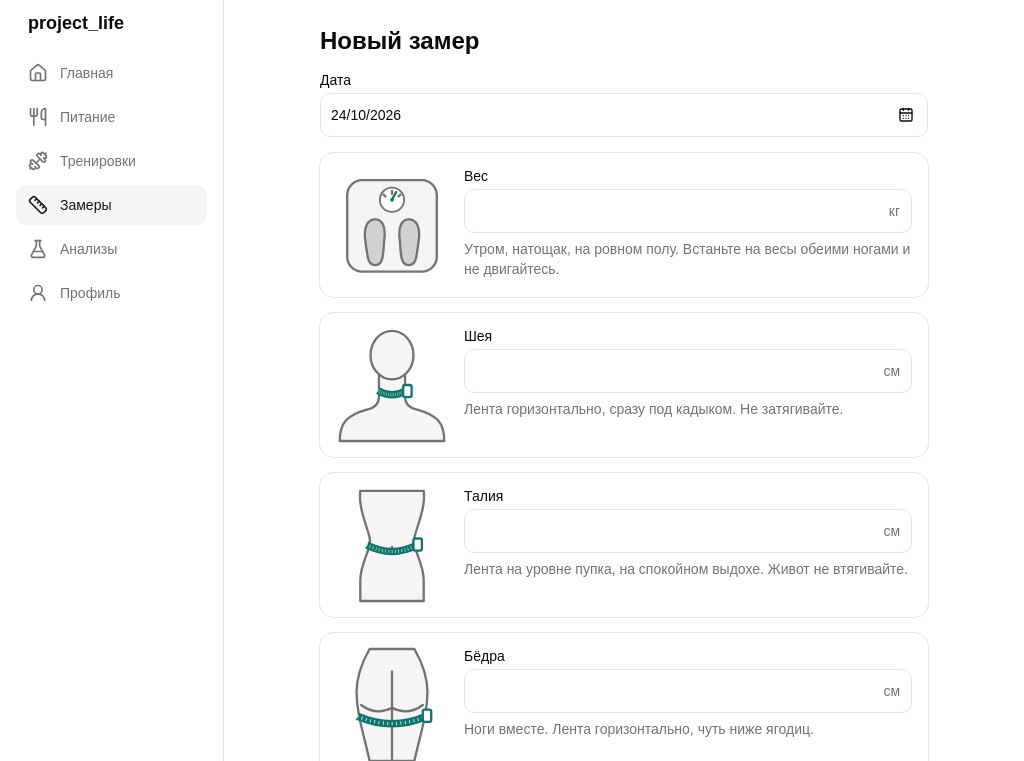
новый замер › не отправляет значение вне диапазона и не-число
In the field labelled "Вес": (688, 211) [464,189,912,233], type "700"
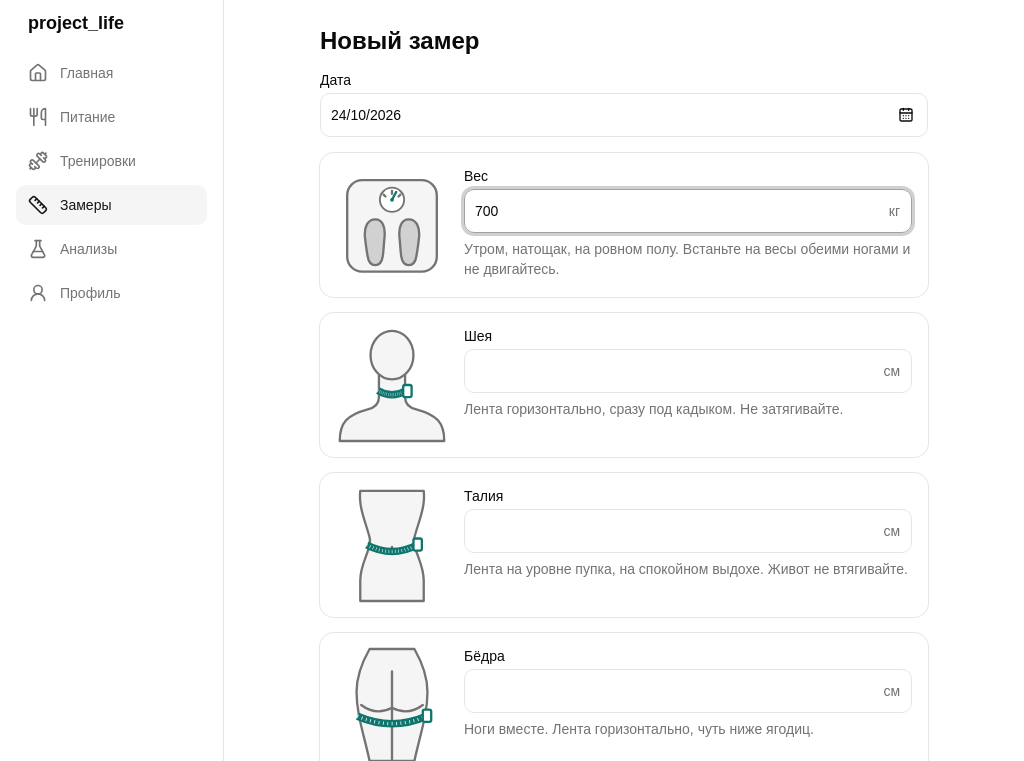
In the field labelled "Шея": (688, 371) [464,349,912,393], type "сорок"
(page scrolled)
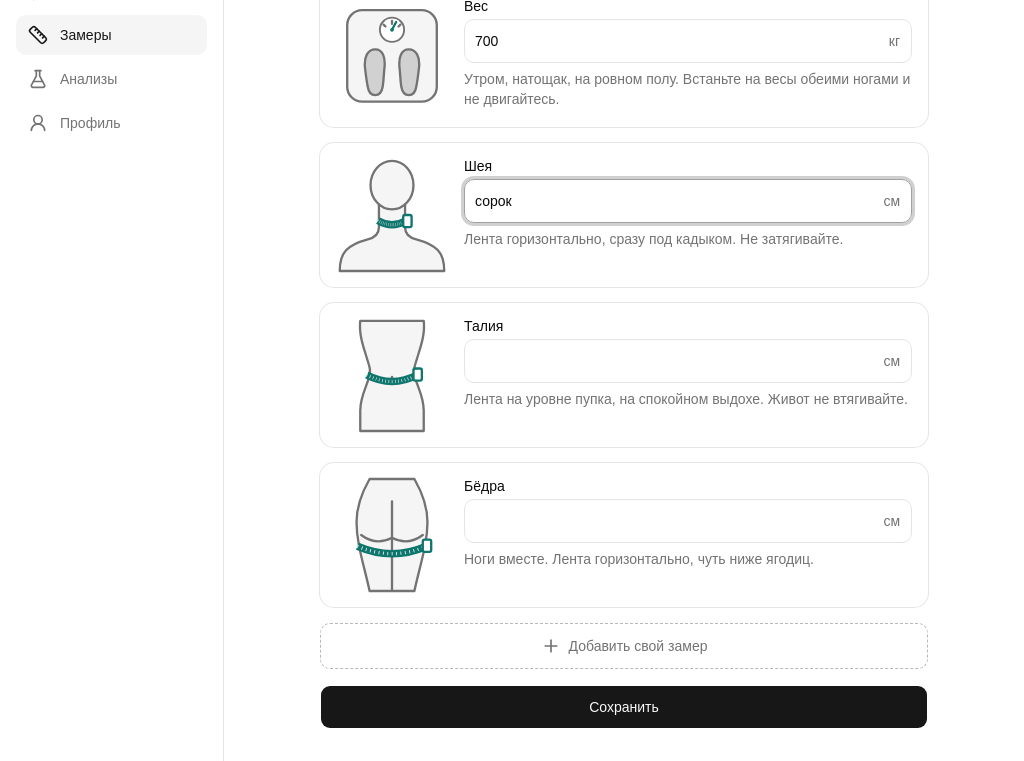
Click the button "Сохранить": (624, 707) [320,685,928,729]
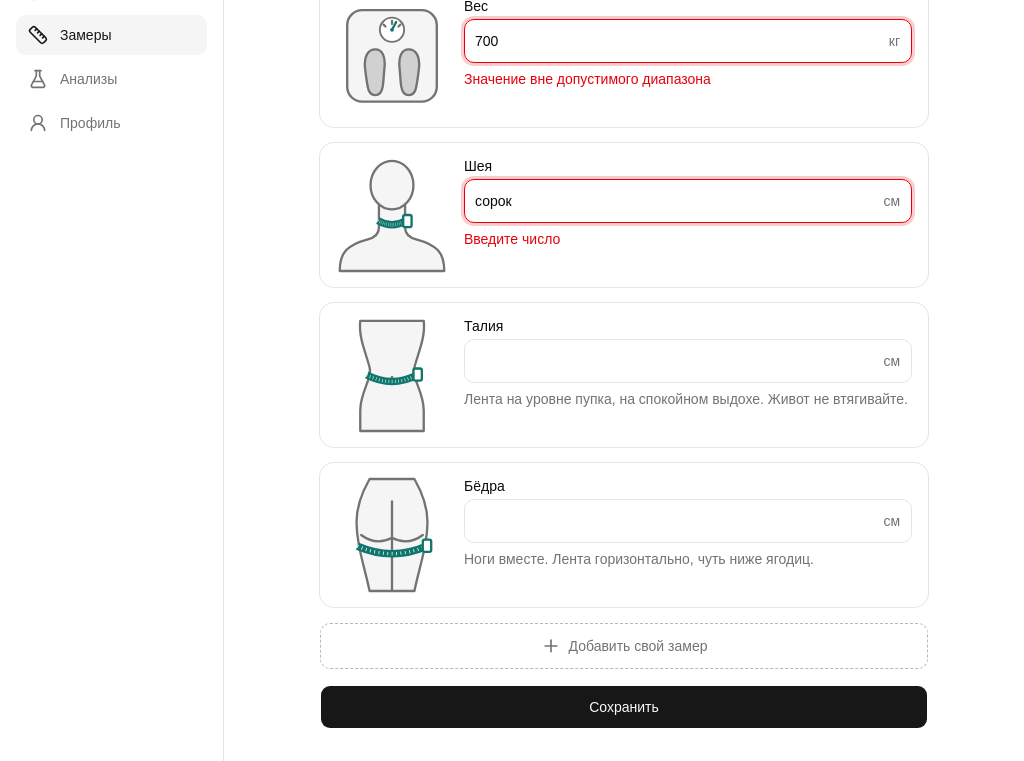
expect the text "Значение вне допустимого диапазона" is shown: met, box [464,71,711,87]
expect the text "Введите число" is shown: met, box [464,231,560,247]
